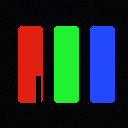4 line_v: (36, 76, 40, 108)
